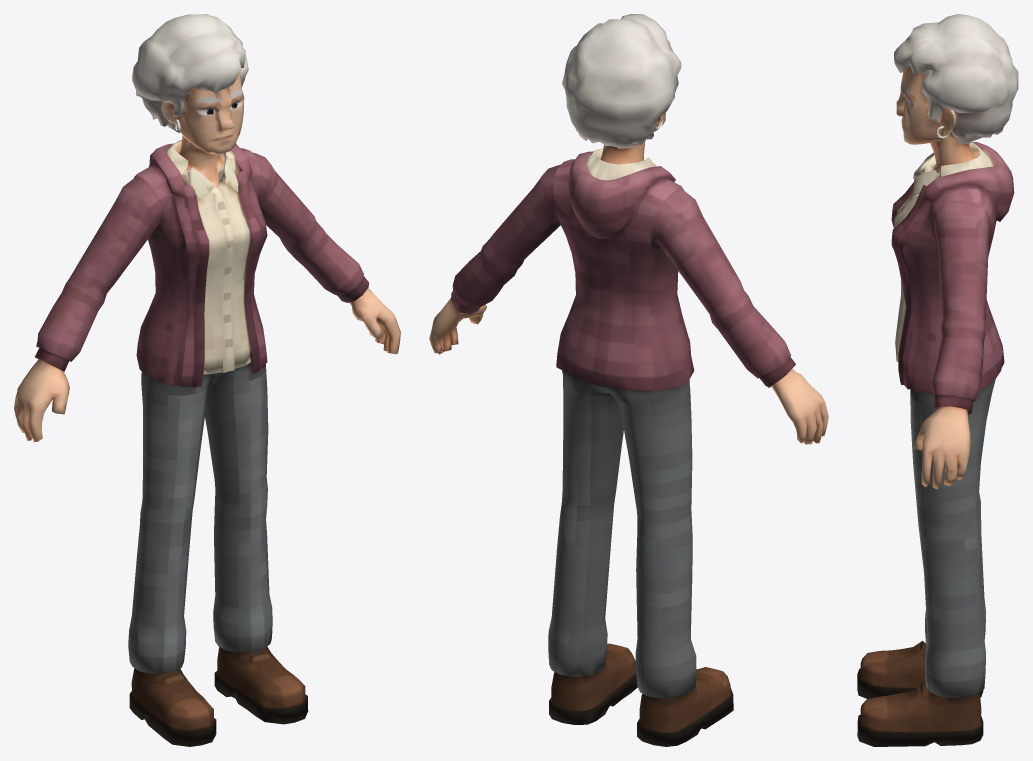
File: elderly_woman.glb
3 views of the same model, side by side, from view 1: azimuth 30°, elevation 25°; view 2: azimuth 150°, elevation 25°; view 3: azimuth 270°, elevation 25° (orthographic). The views are drawn at different scales.
Parts seen in each view (by area): view 1: geometry_0; view 2: geometry_0; view 3: geometry_0.
Boxes of the visible parts, <box> form: geometry_0: <box>14,14,400,746</box>; geometry_0: <box>429,14,828,746</box>; geometry_0: <box>857,14,1018,746</box>.
Bounding box in the file's own units: 0.5479 × 0.9512 × 0.2007.
Materials: 1 (1 with a texture image).
